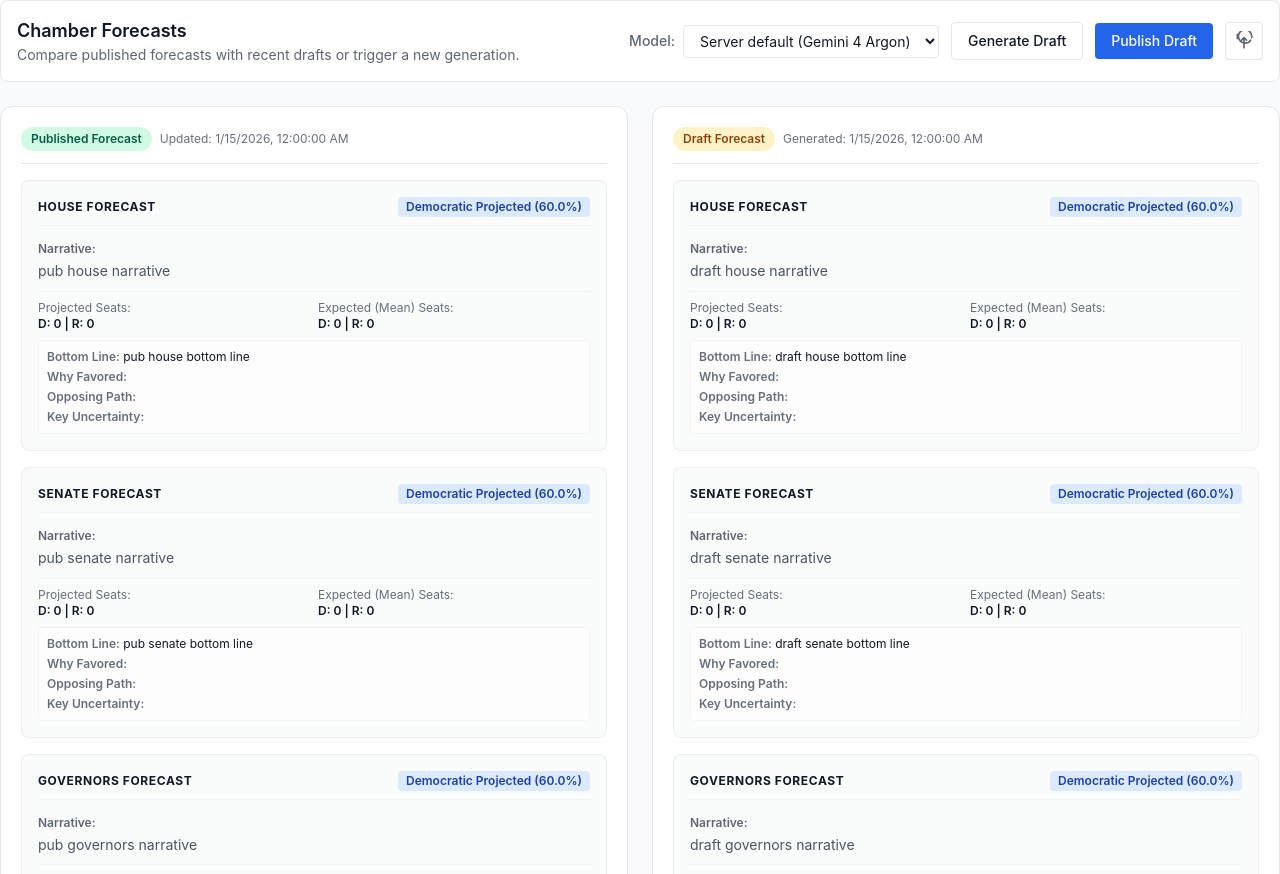
Test case: ForecastsTab publishing › does not reload when the publish itself failed
This screenshot has width=1280, height=874.
Click the button "Publish Draft": [1154, 41] box x1=1095 y1=23 x2=1213 y2=59
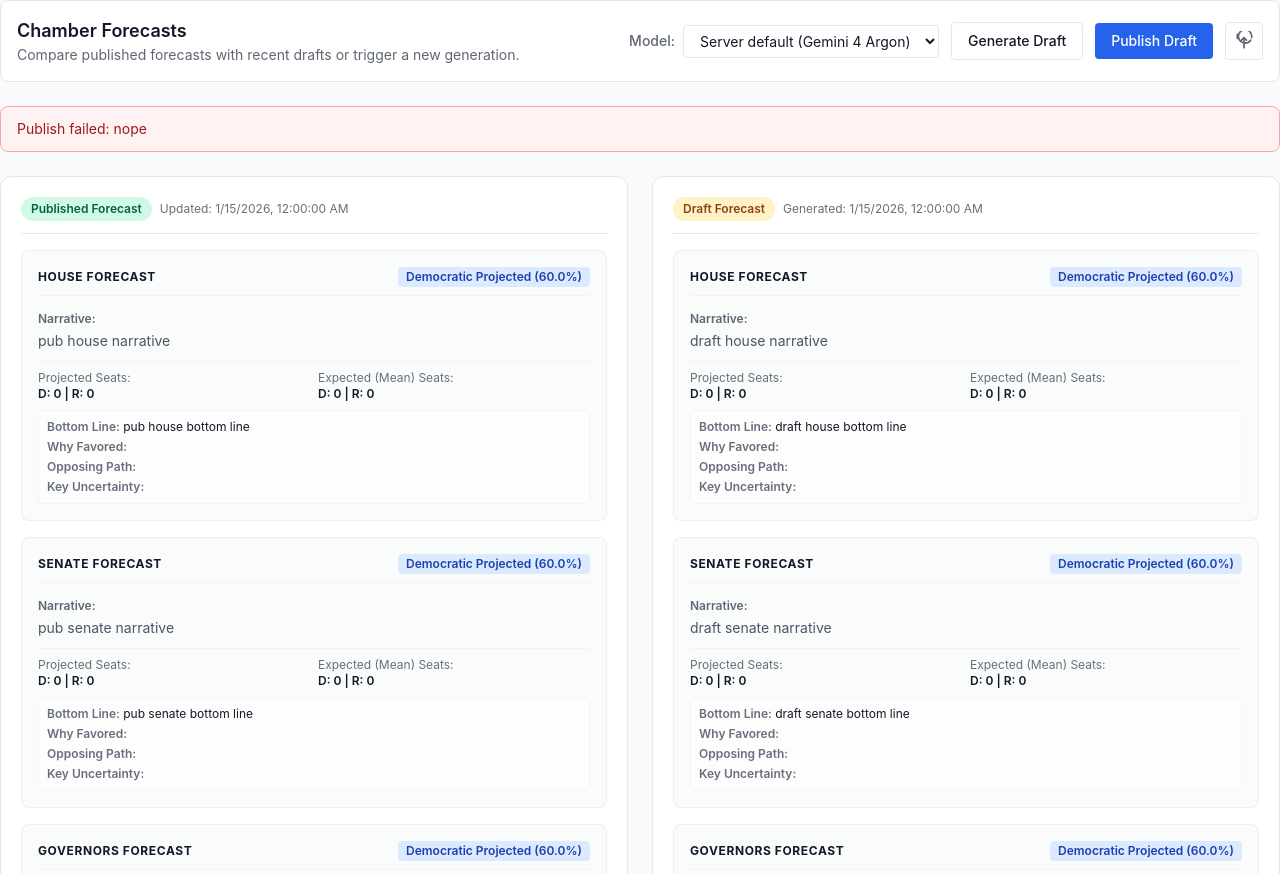
Result: the text "Publish failed" is shown at x1=17 y1=120 x2=147 y2=137
